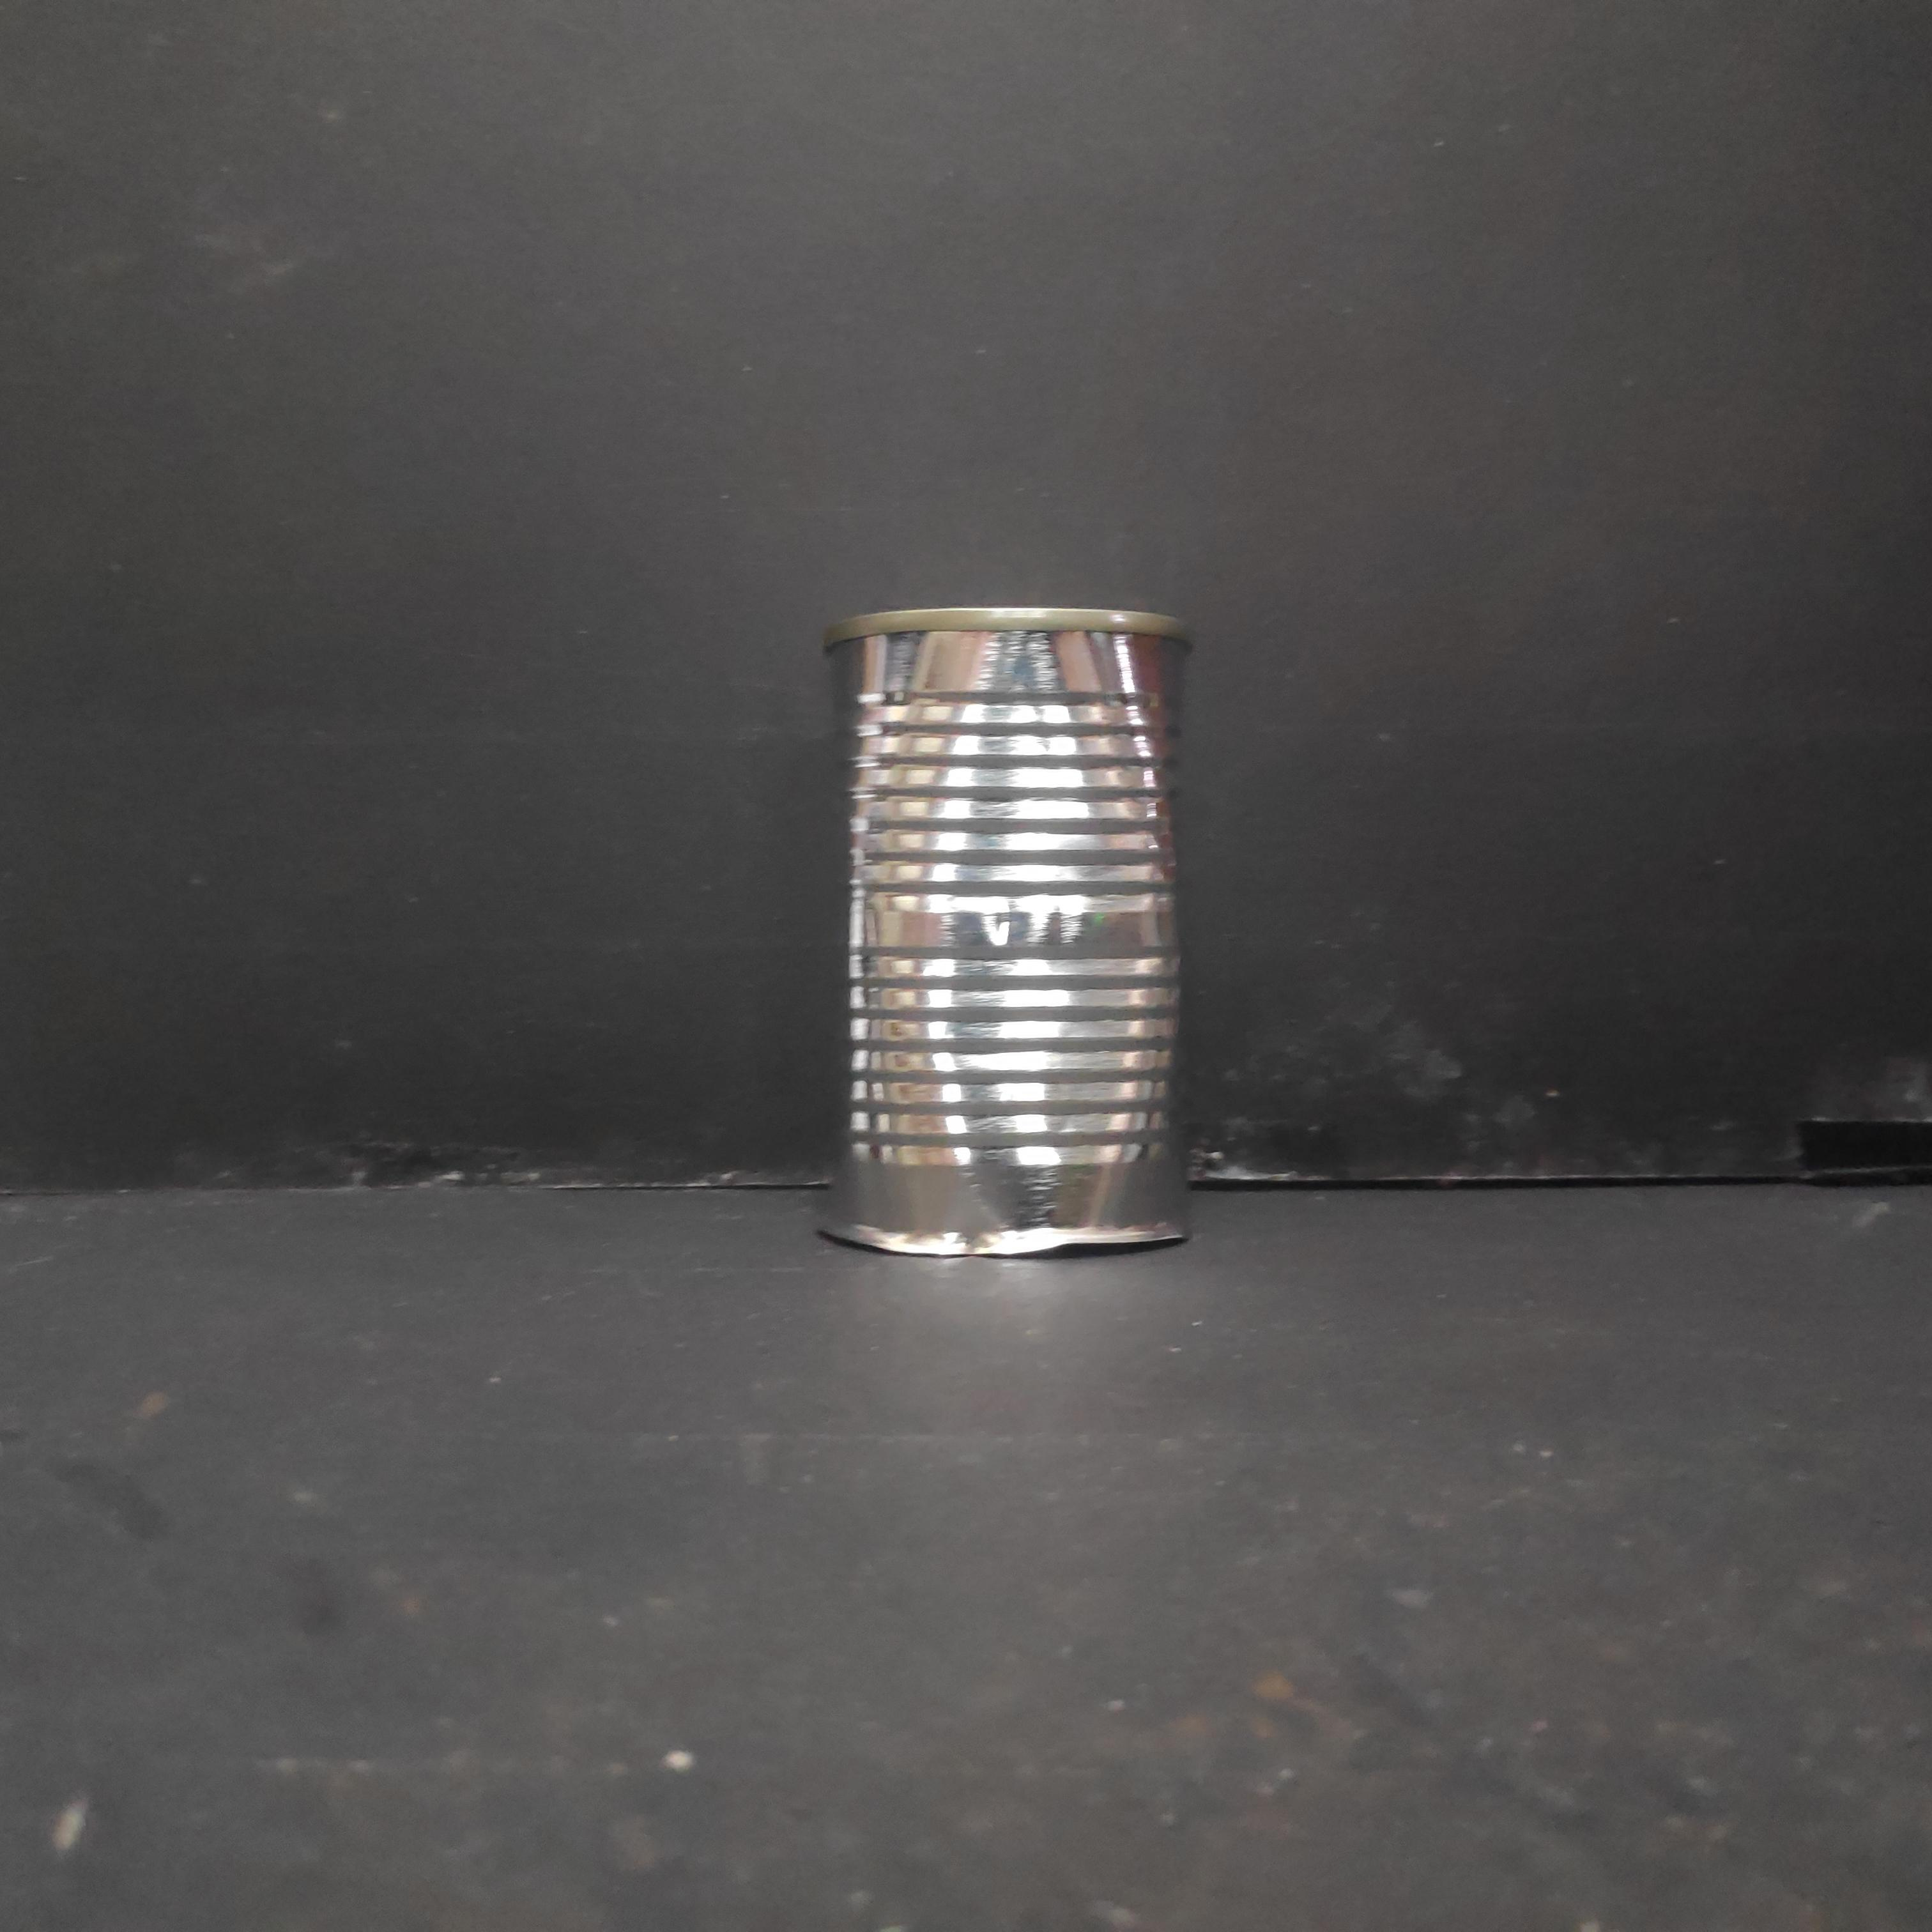Minor Defect: (807, 589, 1203, 1272)
